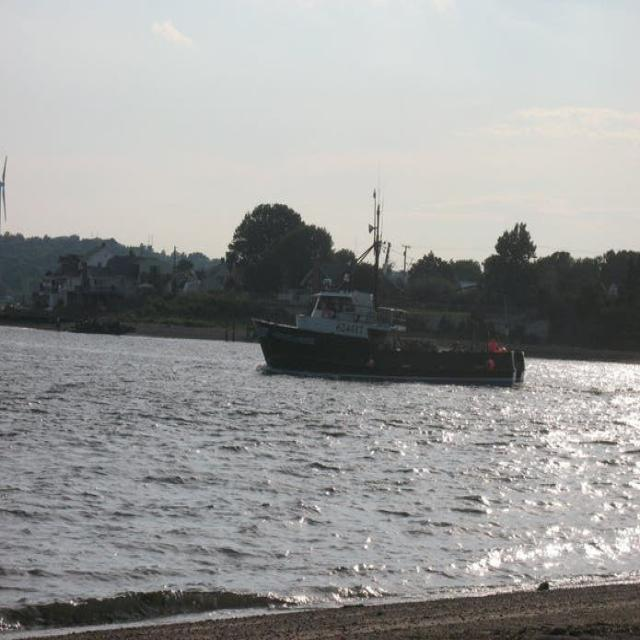fishing boat: (248, 254, 530, 392)
